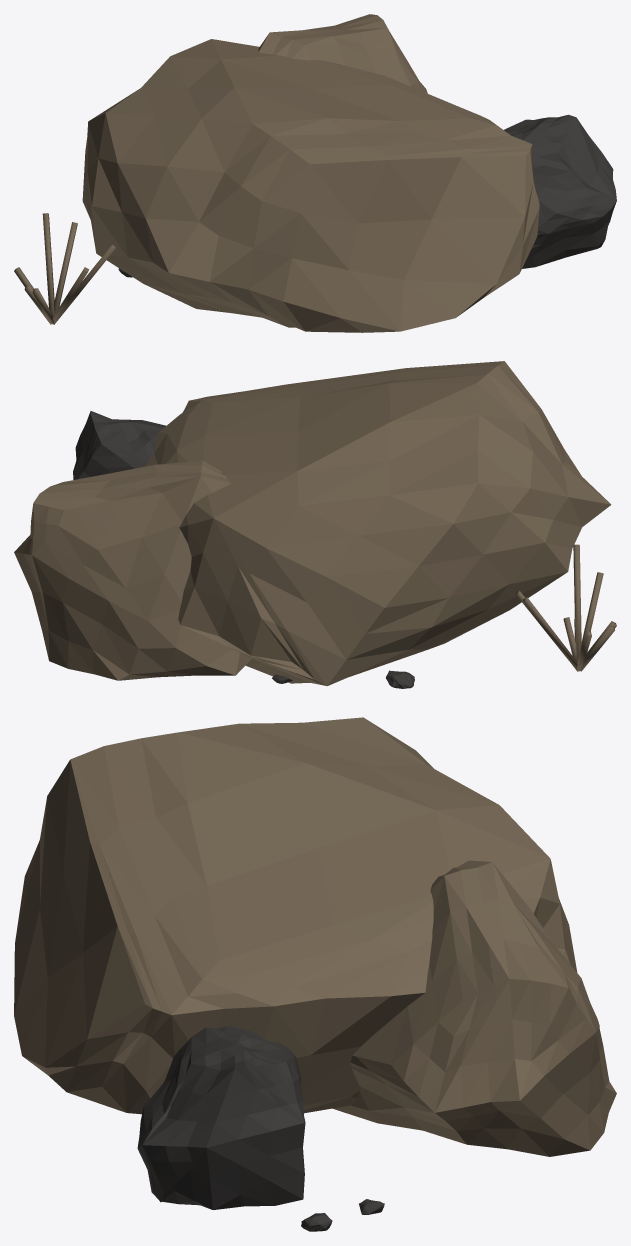
The model's file is cover_rock_18.glb.
3 views of the same model, one above another, from view 1: azimuth 30°, elevation 25°; view 2: azimuth 150°, elevation 25°; view 3: azimuth 270°, elevation 25° (orthographic). The views are drawn at different scales.
Parts seen in each view (by area): view 1: rock_0, rock_2, rock_1, weed_8, weed_7, weed_6; view 2: rock_0, rock_1, rock_2, weed_6, weed_8, weed_0; view 3: rock_0, rock_1, rock_2.
Part boxes in pixels (left/top/right/bottom): rock_0: left=82, top=39, right=539, bottom=332; rock_2: left=504, top=114, right=616, bottom=268; rock_1: left=258, top=14, right=427, bottom=93; weed_8: left=42, top=213, right=54, bottom=315; weed_7: left=53, top=222, right=77, bottom=314; weed_6: left=56, top=244, right=116, bottom=322; rock_0: left=144, top=361, right=611, bottom=686; rock_1: left=14, top=460, right=251, bottom=680; rock_2: left=73, top=411, right=165, bottom=479; weed_6: left=573, top=544, right=581, bottom=661; weed_8: left=523, top=597, right=578, bottom=671; weed_0: left=581, top=572, right=603, bottom=645; rock_0: left=14, top=717, right=577, bottom=1114; rock_1: left=332, top=860, right=616, bottom=1156; rock_2: left=137, top=1026, right=305, bottom=1209.
Size of the model in its own units: 2.15 by 0.8212 by 1.6.
